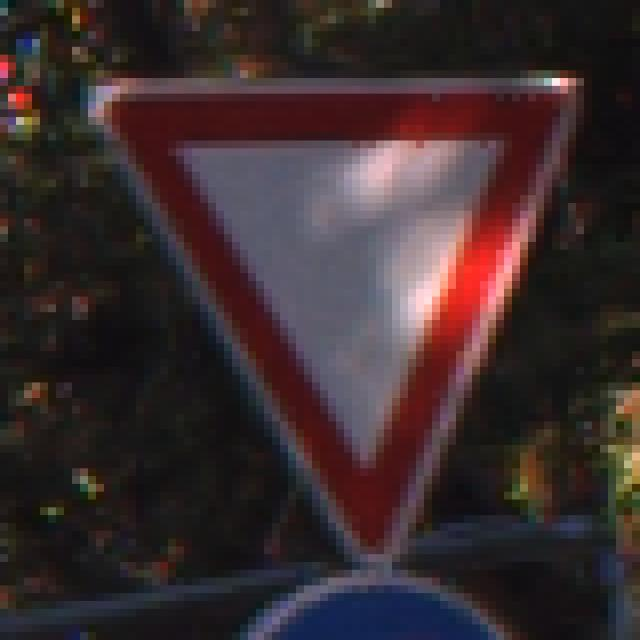Give Way: (65, 64, 585, 587)
